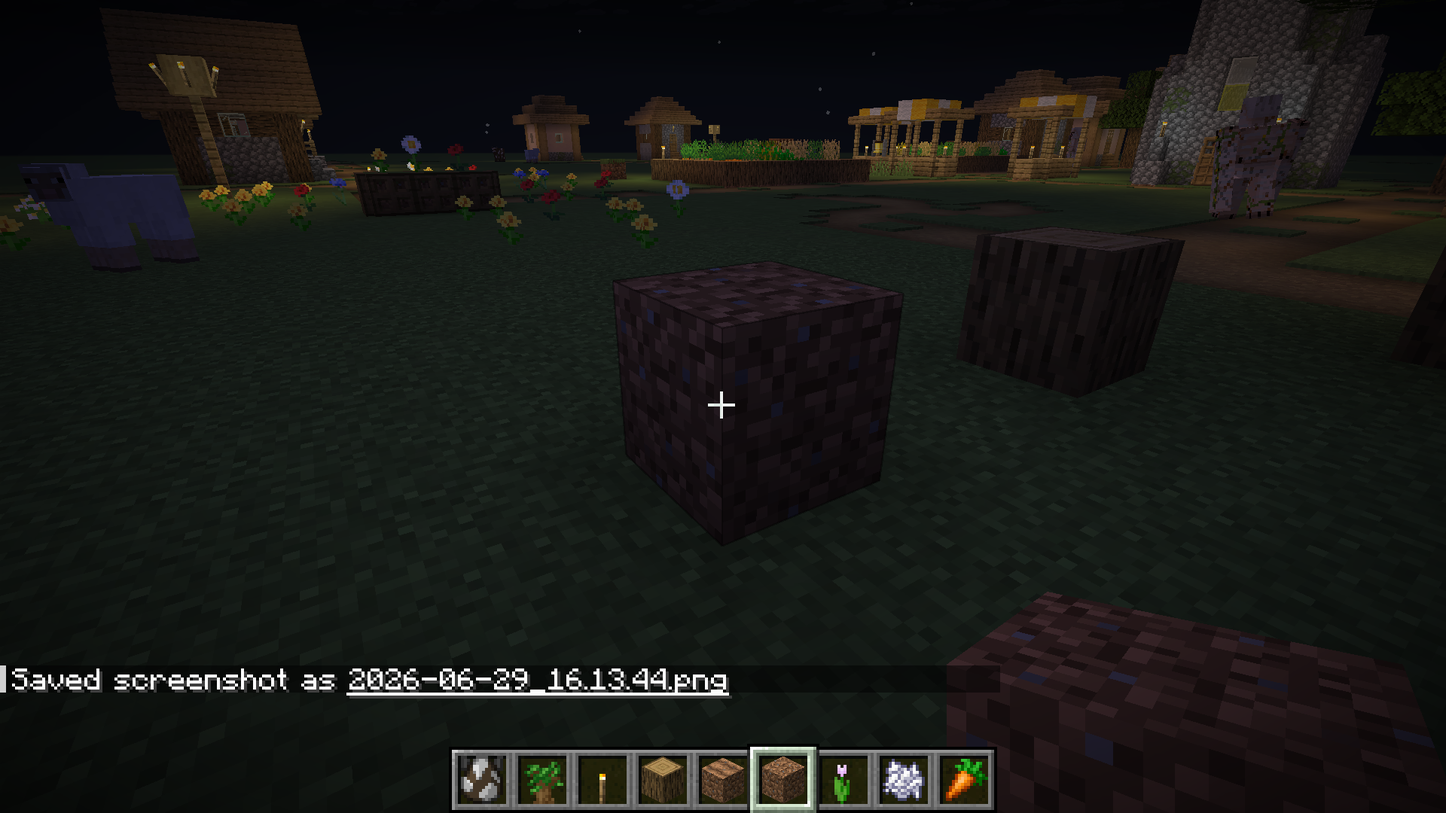Sheep: (12, 148, 212, 277)
Torch: (170, 55, 199, 92), (205, 59, 228, 91), (145, 54, 165, 88), (657, 142, 670, 159)
dirt: (621, 263, 899, 540)
flower: (211, 175, 268, 228), (618, 205, 666, 251), (390, 122, 431, 172), (438, 133, 482, 178), (517, 166, 559, 208), (661, 173, 693, 219), (5, 199, 51, 229), (358, 142, 395, 175), (500, 216, 537, 245)
wood: (959, 225, 1178, 397)
